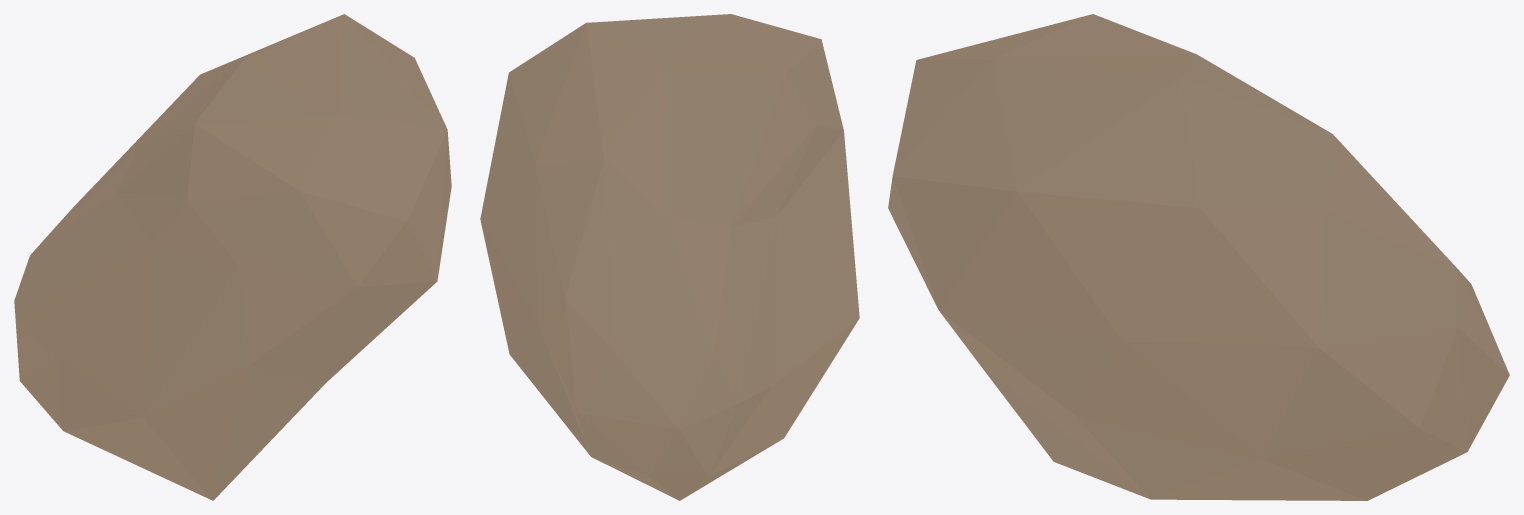
File: Rock.glb
3 views of the same model, side by side, from view 1: azimuth 30°, elevation 25°; view 2: azimuth 150°, elevation 25°; view 3: azimuth 270°, elevation 25° (orthographic). The views are drawn at different scales.
Parts seen in each view (by area): view 1: rock; view 2: rock; view 3: rock.
Part boxes in pixels (box(x1,y1,x2,y2)): rock: box(14, 14, 451, 500); rock: box(480, 14, 859, 500); rock: box(888, 14, 1509, 500).
Size of the model in its own units: 1.33 by 1.58 by 1.75.
